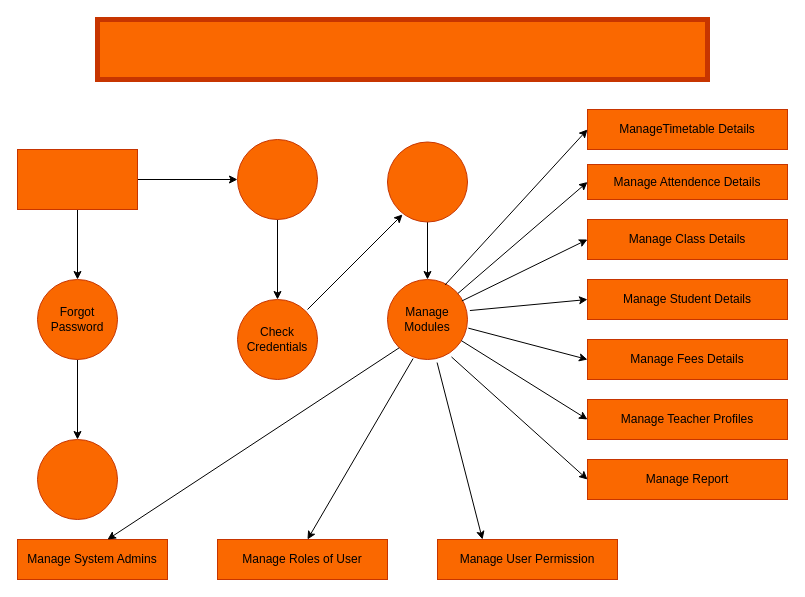
Some shapes in this 805 by 597 pixel diagram are drawn without their labels. The shapes that lost their labels are listed below. From the top down, each one's box as (x1, y1, x2, y2) in pixels, then its label:
(94, 16, 710, 82): Student Information System
(16, 148, 138, 210): Admin
(236, 138, 318, 220): Login in System
(386, 141, 468, 222): Check Roles of Access
(36, 438, 118, 520): Send Email to User
